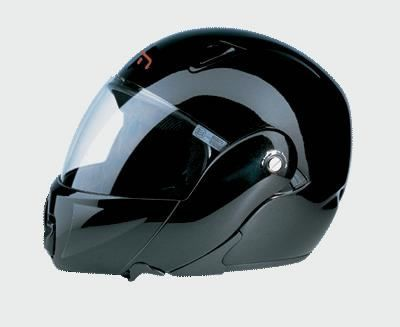helmet: (60, 38, 358, 268)
